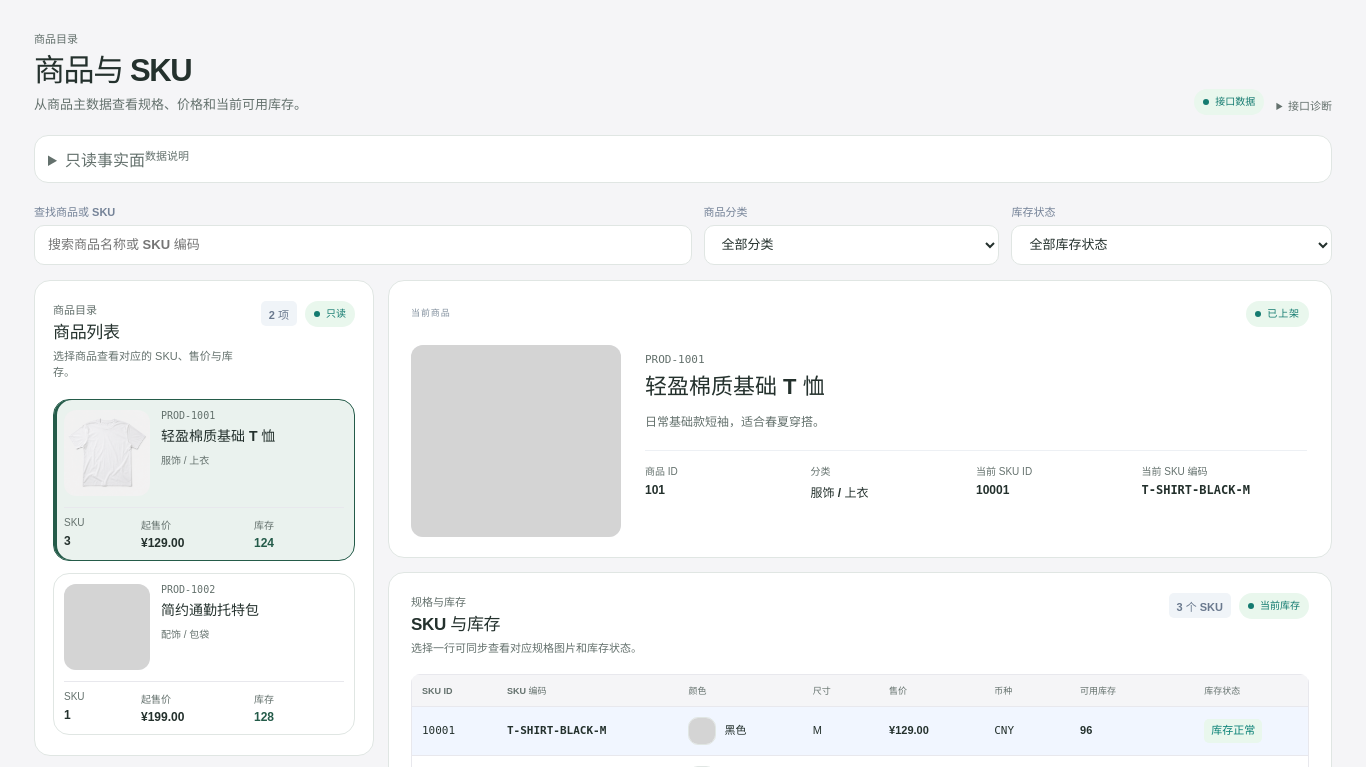
Scenario: ProductSkuManagement › renders API images, switches products, and updates the SKU table
Click the button with test id "product-102": [107, 627] box [53, 573, 355, 735]
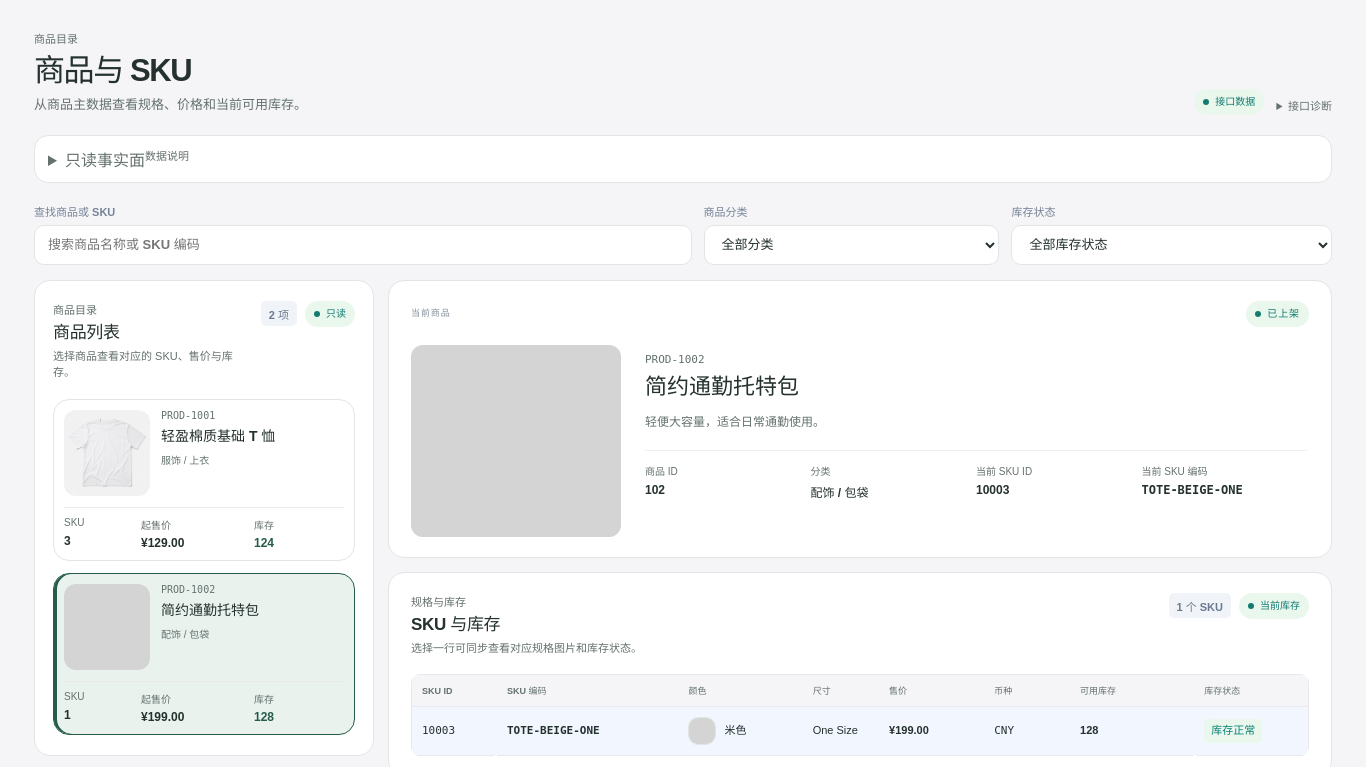
Now the row with test id "sku-10003" shows "TOTE-BEIGE-ONE", box [507, 724, 600, 737]
